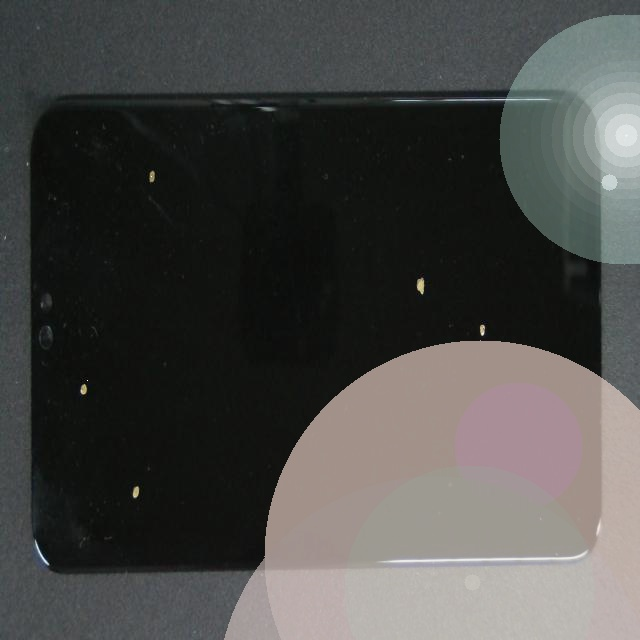stain: (240, 140, 640, 488), (197, 160, 593, 481), (52, 228, 190, 640), (21, 206, 122, 619), (77, 59, 208, 256)
